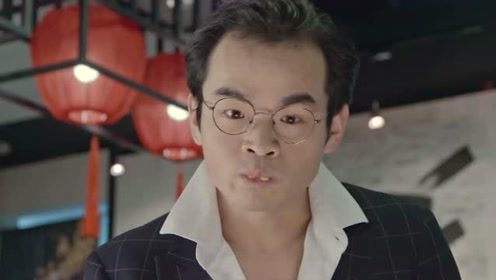people: (189, 2, 349, 280)
